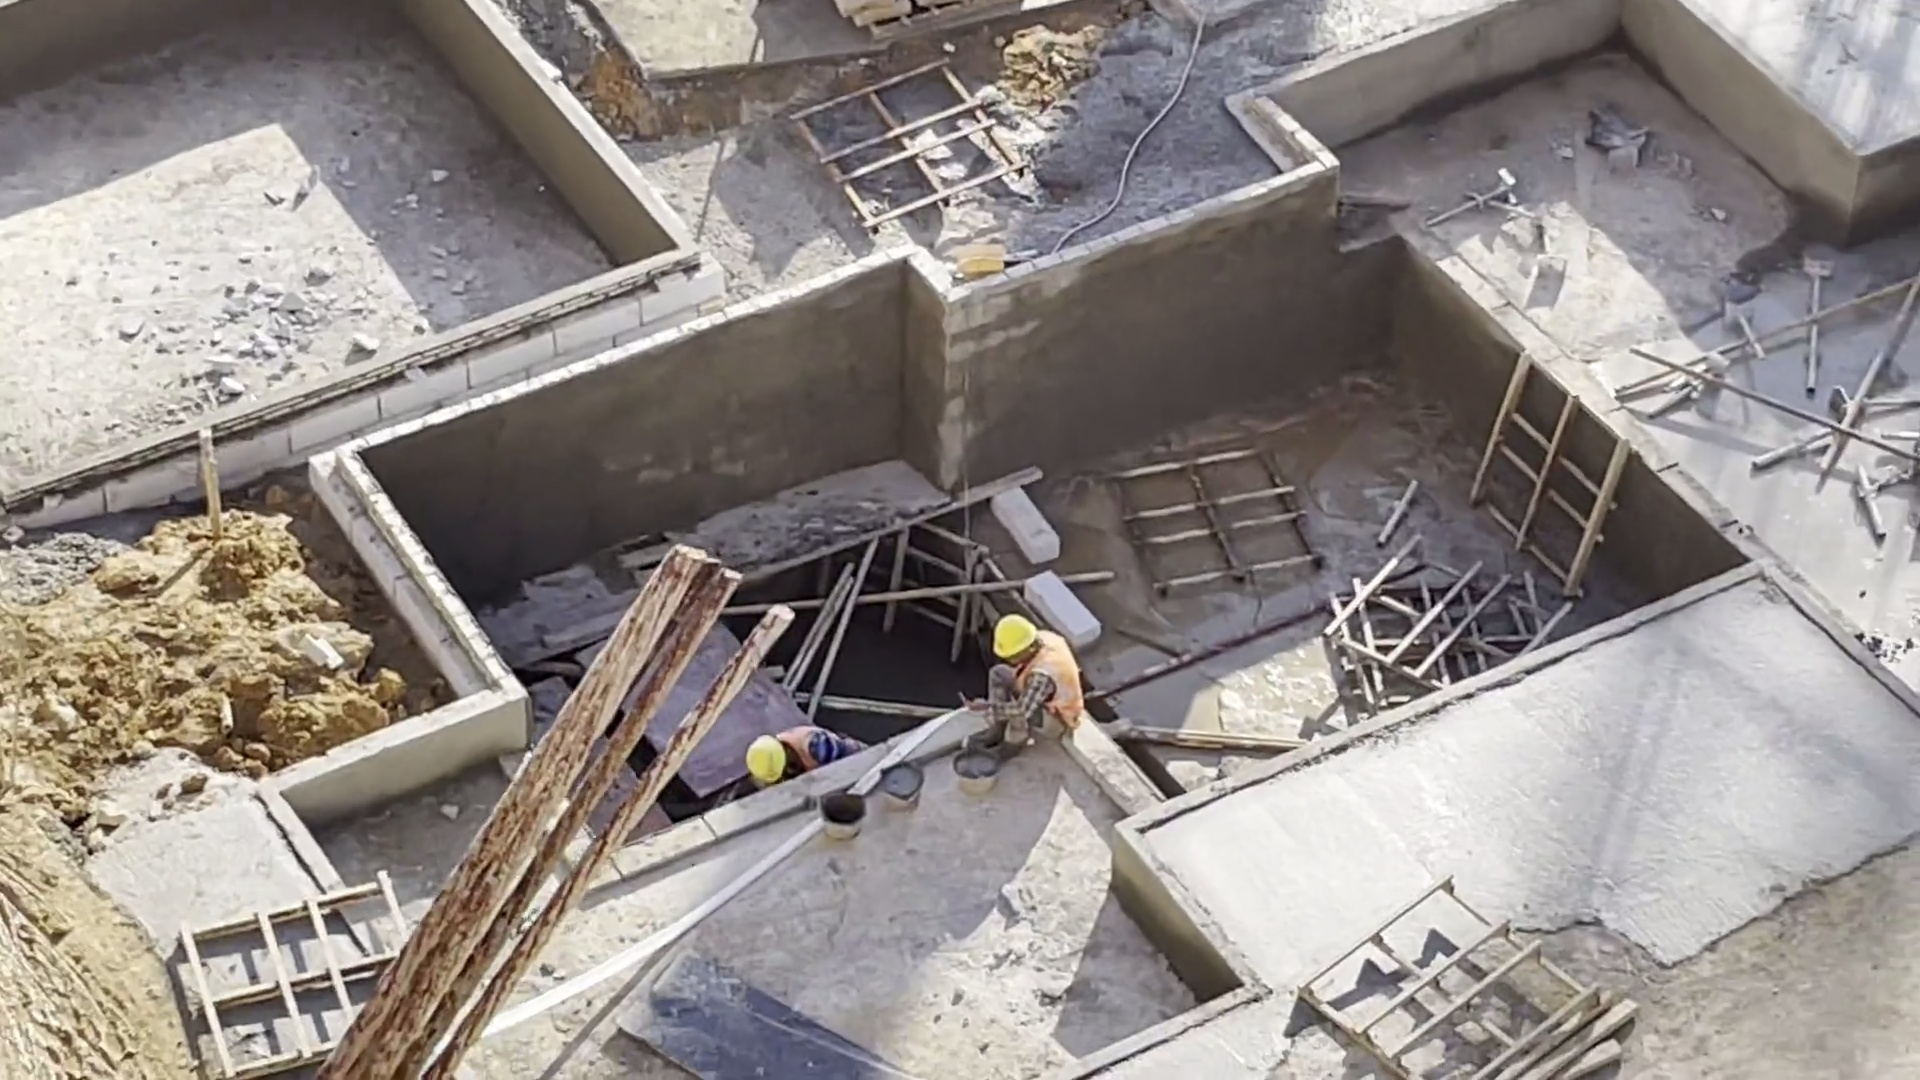helmet: (985, 611, 1044, 664), (738, 733, 789, 787)
person: (962, 601, 1078, 768), (730, 727, 886, 778)
vest: (1005, 648, 1087, 715)
